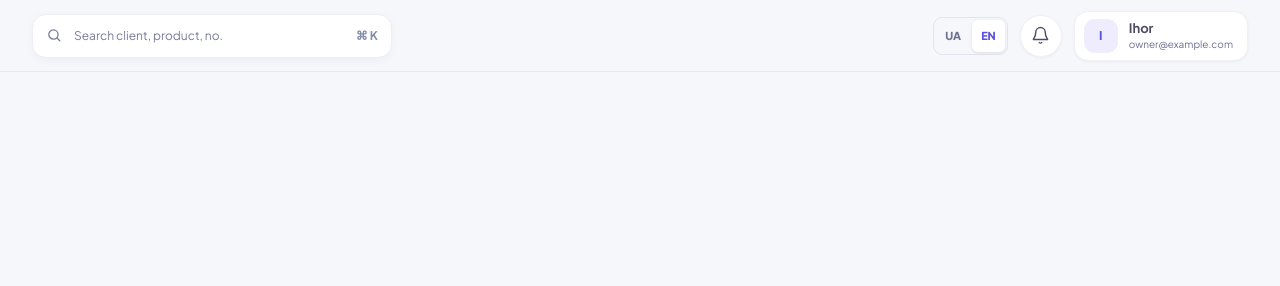
Scenario: AppHeader › renders workspace and profile actions in English
The width and height of the screenshot is (1280, 286).
Click the button with aria-label "Profile menu" at (1161,36), box left=1074, top=10, right=1248, bottom=60
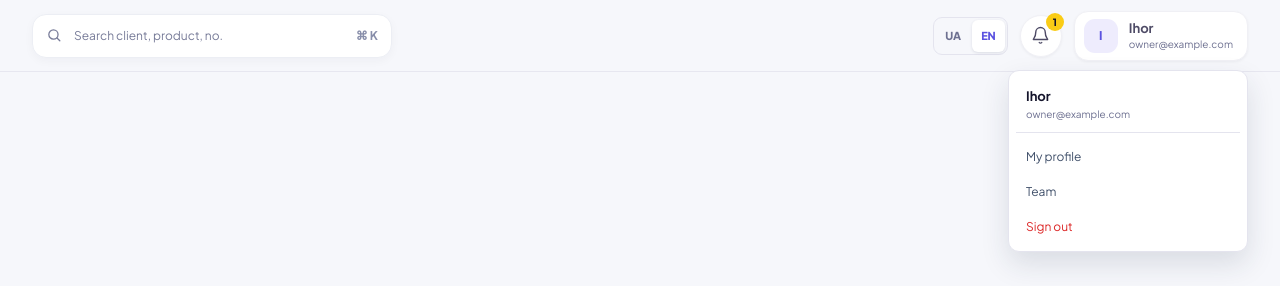
expect the menu item "My profile" is shown: met, box left=1026, top=148, right=1081, bottom=164
expect the menu item "Sign out" is shown: met, box left=1016, top=208, right=1240, bottom=244
